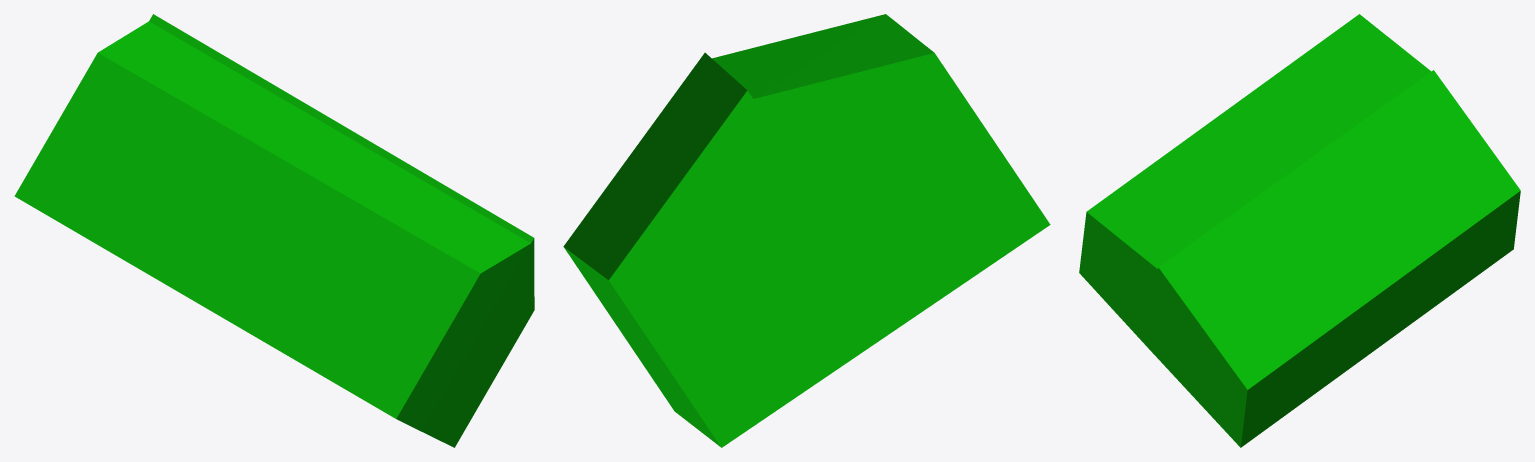
3 renders of one model, left to right at view 1: azimuth 30°, elevation 25°; view 2: azimuth 150°, elevation 25°; view 3: azimuth 270°, elevation 25°, orthographic. The views are drawn at different scales.
Visible parts, largest first — view 1: mesh; view 2: mesh; view 3: mesh.
Part boxes in pixels (bbox=[...]): mesh: bbox=[14, 14, 534, 447]; mesh: bbox=[563, 14, 1050, 447]; mesh: bbox=[1079, 14, 1520, 447].
Size of the model in its own units: 12.24 by 10.55 by 13.
